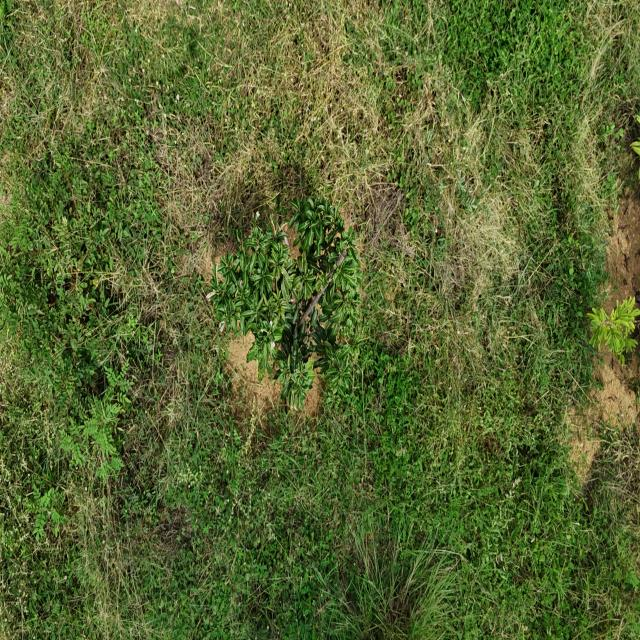mangoTree: (208, 185, 364, 422)
notMangoTree: (54, 349, 144, 505), (581, 274, 640, 371)
